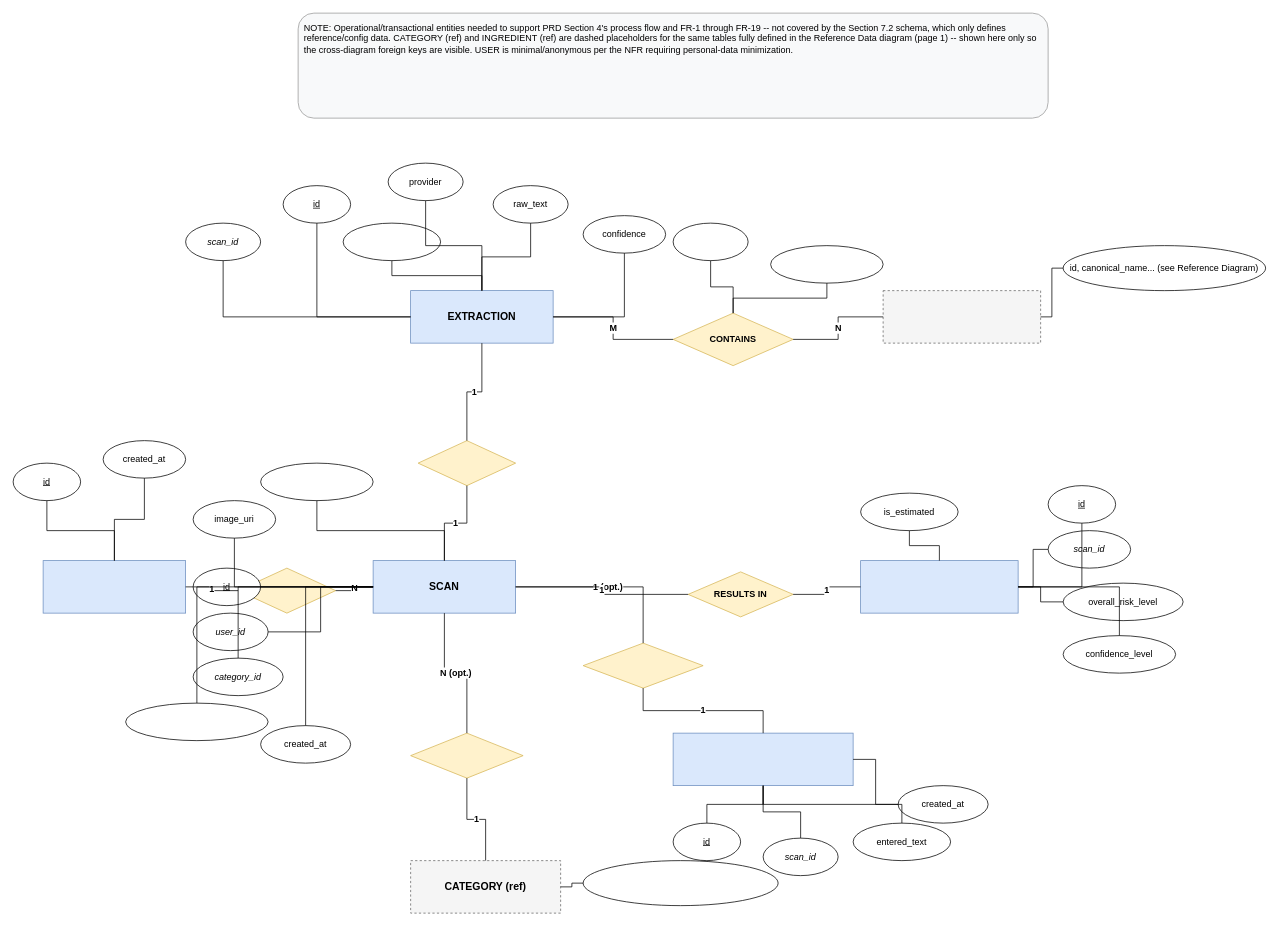
Some shapes in this 1279 by 926 pixel diagram are drawn without their labels. Each missing label, with the box of its shape:
CLASSIFIED AS: (410, 732, 523, 778)
id, name (see Reference Diagram): (582, 860, 778, 906)
INGREDIENT (ref): (882, 290, 1041, 343)
is_flagged: (672, 222, 748, 261)
MANUAL_INGREDIENT_ENTRY: (672, 732, 853, 786)
matched_via_alias: (770, 245, 883, 283)
panel_detected: (342, 222, 441, 261)
PERFORMS: (237, 567, 336, 613)
processing_mode: (260, 462, 373, 501)
PRODUCES: (417, 440, 516, 486)
quality_check_passed: (125, 702, 268, 741)
RISK_ASSESSMENT: (860, 560, 1018, 613)
USER: (42, 560, 186, 613)
USES MANUAL ENTRY: (582, 642, 703, 688)
